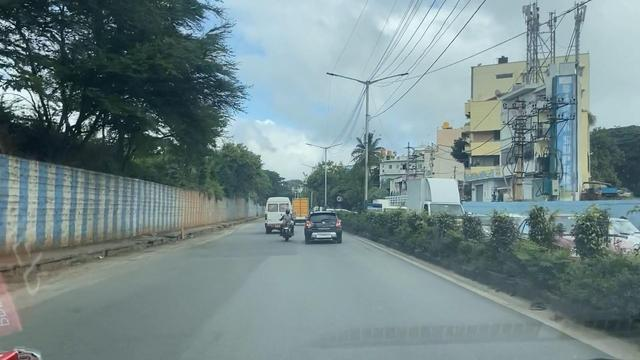LMV: (309, 212, 340, 243), (280, 209, 293, 241)
